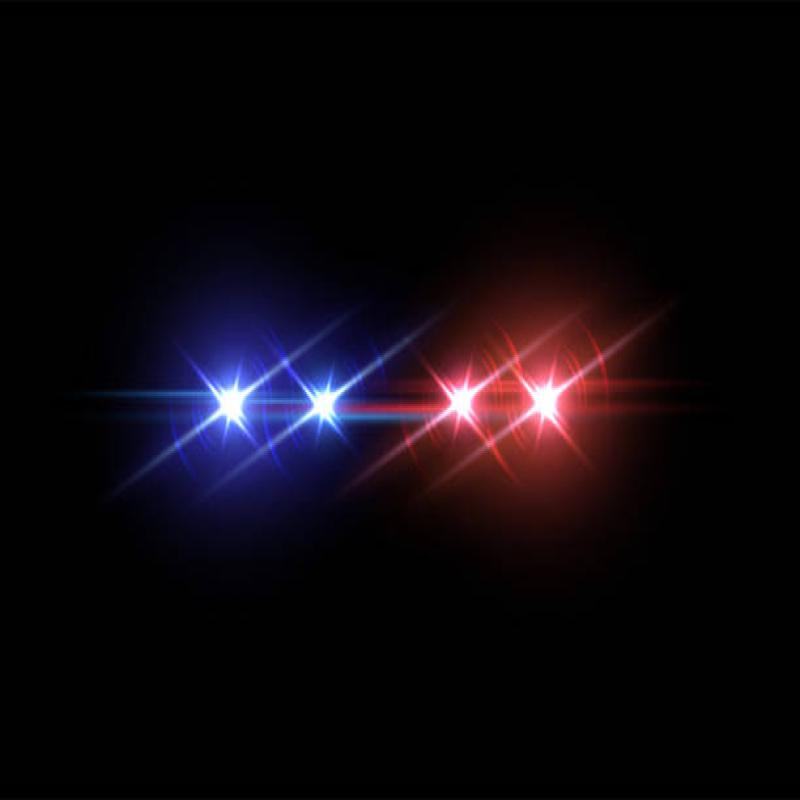AmbulanceSiren: (118, 320, 616, 507)
